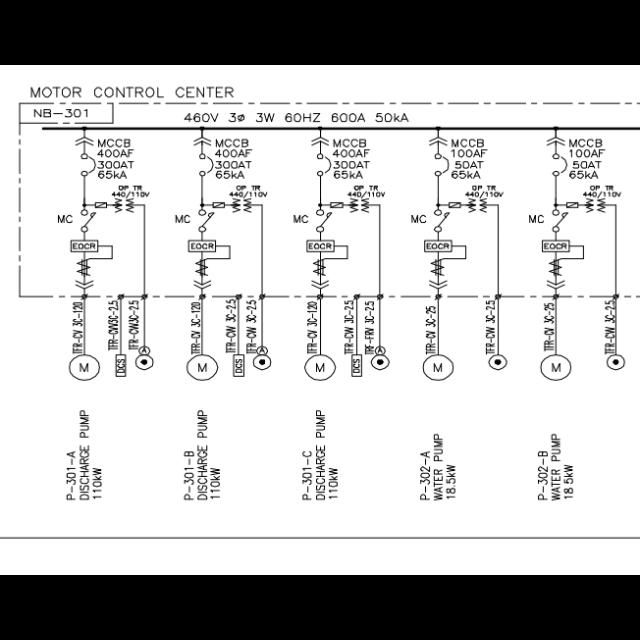MC: (80, 210, 96, 232), (199, 210, 215, 232), (316, 211, 332, 233), (434, 210, 450, 232), (552, 210, 568, 232)
MCCB: (80, 154, 96, 176), (434, 154, 450, 176), (552, 153, 568, 175), (200, 152, 214, 176), (317, 154, 331, 176)
PT: (232, 198, 252, 214), (585, 198, 605, 214), (116, 198, 134, 214), (350, 198, 370, 212), (469, 198, 487, 212)
ZCT: (431, 258, 445, 276), (548, 258, 562, 276), (77, 260, 91, 276), (196, 258, 208, 276), (314, 258, 326, 276)
